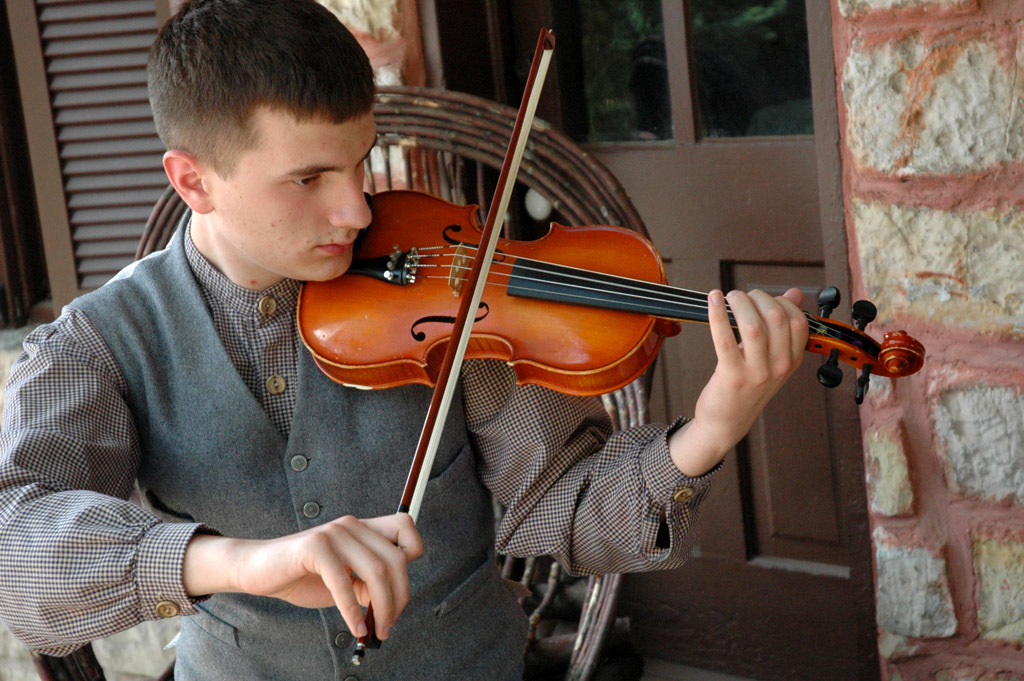Person: (0, 0, 809, 680)
